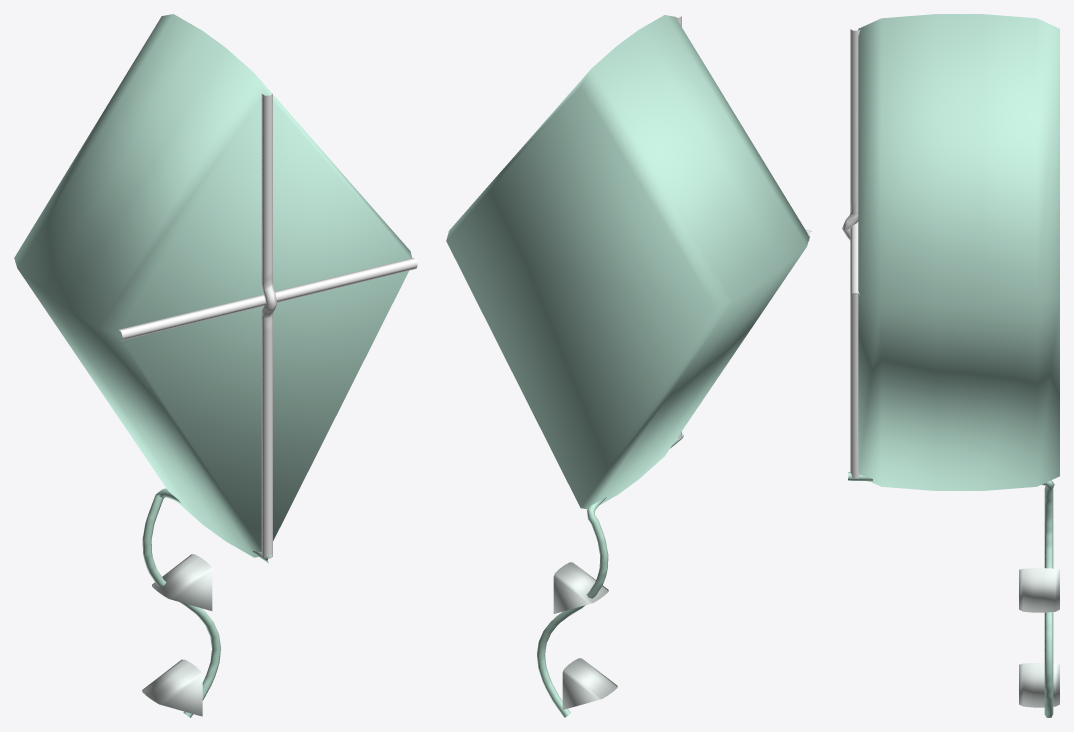
File: decor_5_mint.glb
The picture shows the model from 3 angles, left to right: view 1: azimuth 30°, elevation 25°; view 2: azimuth 150°, elevation 25°; view 3: azimuth 270°, elevation 25°; orthographic projection. The views are drawn at different scales.
Parts seen in each view (by area): view 1: decor_5_mint; view 2: decor_5_mint; view 3: decor_5_mint.
Part boxes in pixels (bbox=[...]): decor_5_mint: bbox=[14, 14, 417, 717]; decor_5_mint: bbox=[446, 15, 811, 717]; decor_5_mint: bbox=[842, 14, 1059, 717].
Size of the model in its own units: 6.51 by 13.94 by 3.97.
